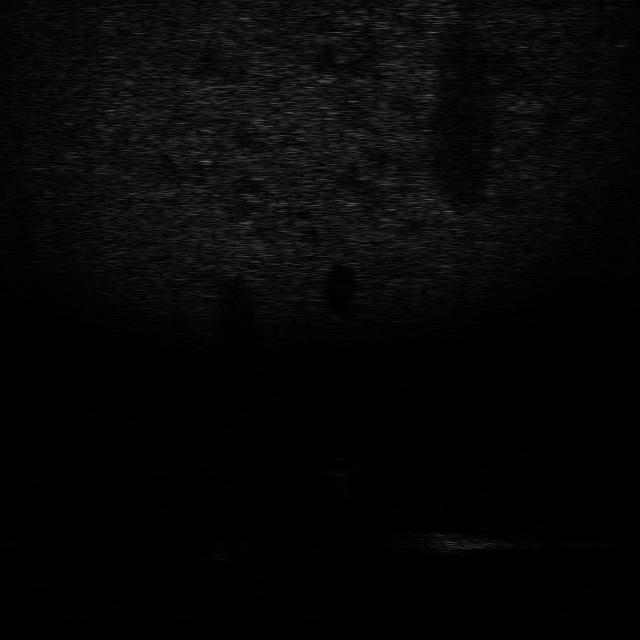ball: (316, 454, 365, 477)
metal bucket: (398, 524, 498, 557)
tyre: (199, 533, 256, 568)
